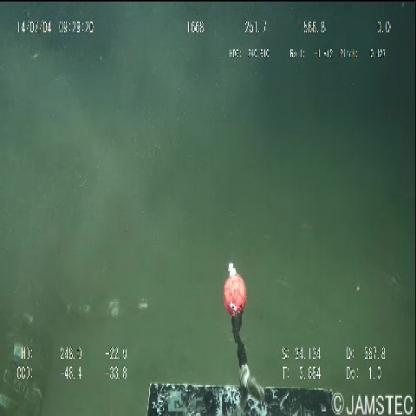Rác: (0, 287, 154, 415)
